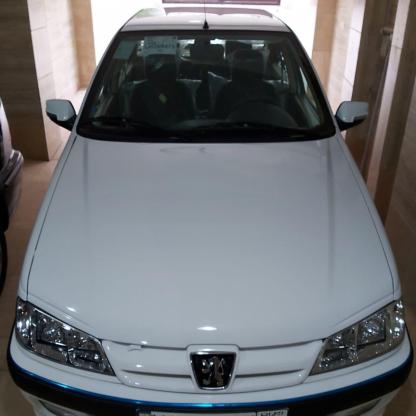Car: (0, 0, 416, 414)
